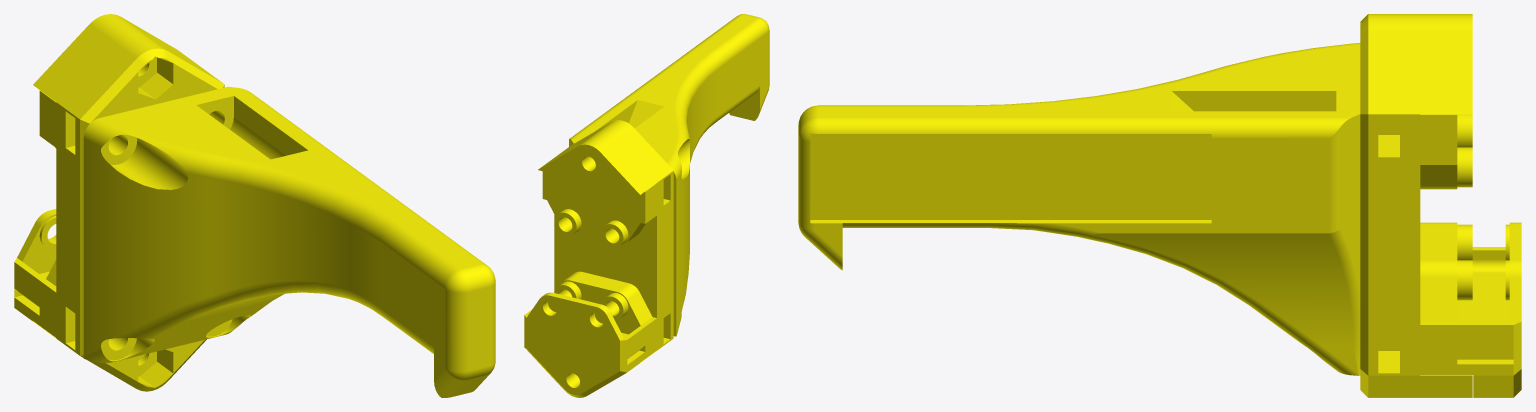
File: gripperLeft.obj
3 views of the same model, side by side, from view 1: azimuth 30°, elevation 25°; view 2: azimuth 150°, elevation 25°; view 3: azimuth 270°, elevation 25° (orthographic). The views are drawn at different scales.
Parts seen in each view (by area): view 1: gripper; view 2: gripper; view 3: gripper.
Boxes of the visible parts, x1,y1,x2,y2 form: gripper: (14, 14, 495, 397); gripper: (524, 14, 769, 397); gripper: (798, 14, 1521, 397).
Size of the model in its own units: 2.6 by 5.2 by 9.01.
